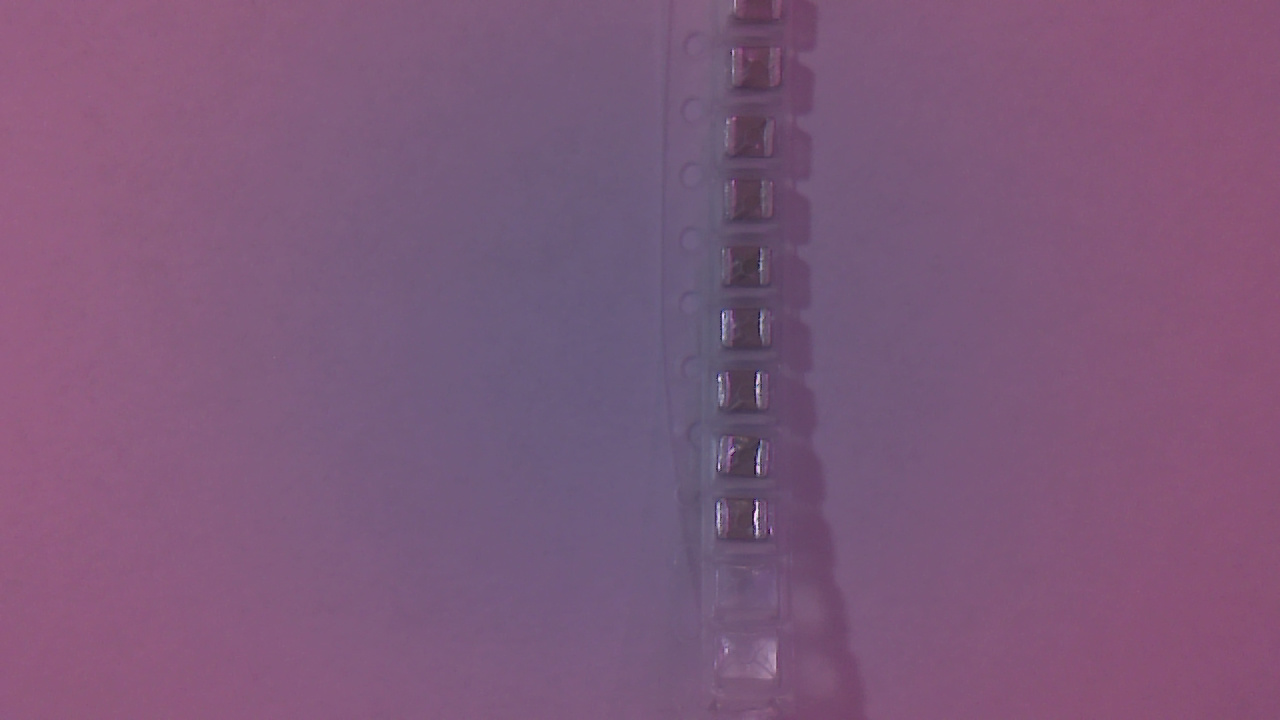Condensator: (723, 309, 778, 357), (735, 49, 792, 95), (729, 119, 785, 164), (718, 501, 773, 546), (720, 439, 777, 482), (718, 374, 774, 417), (727, 249, 778, 294), (730, 181, 781, 226)
